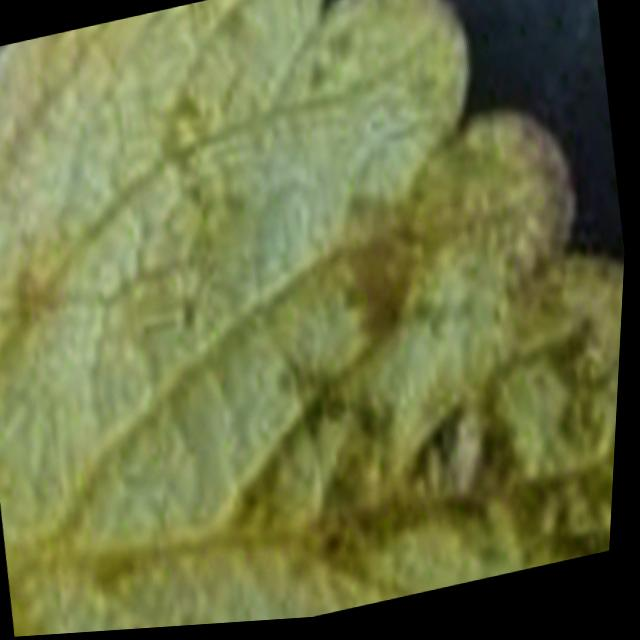Angular Leafspot: (222, 113, 627, 619)
